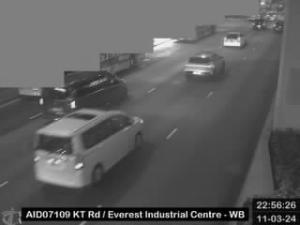bus: (19, 16, 144, 95), (177, 26, 216, 42)
truck: (183, 51, 225, 81)
vehicle: (32, 108, 144, 190), (38, 70, 128, 120), (183, 51, 225, 81), (223, 32, 247, 48)
